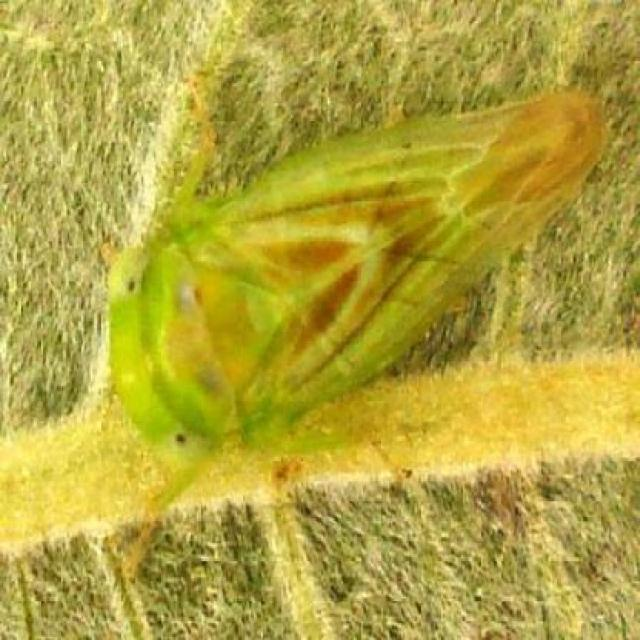green-leafhopper: (110, 53, 620, 582)
